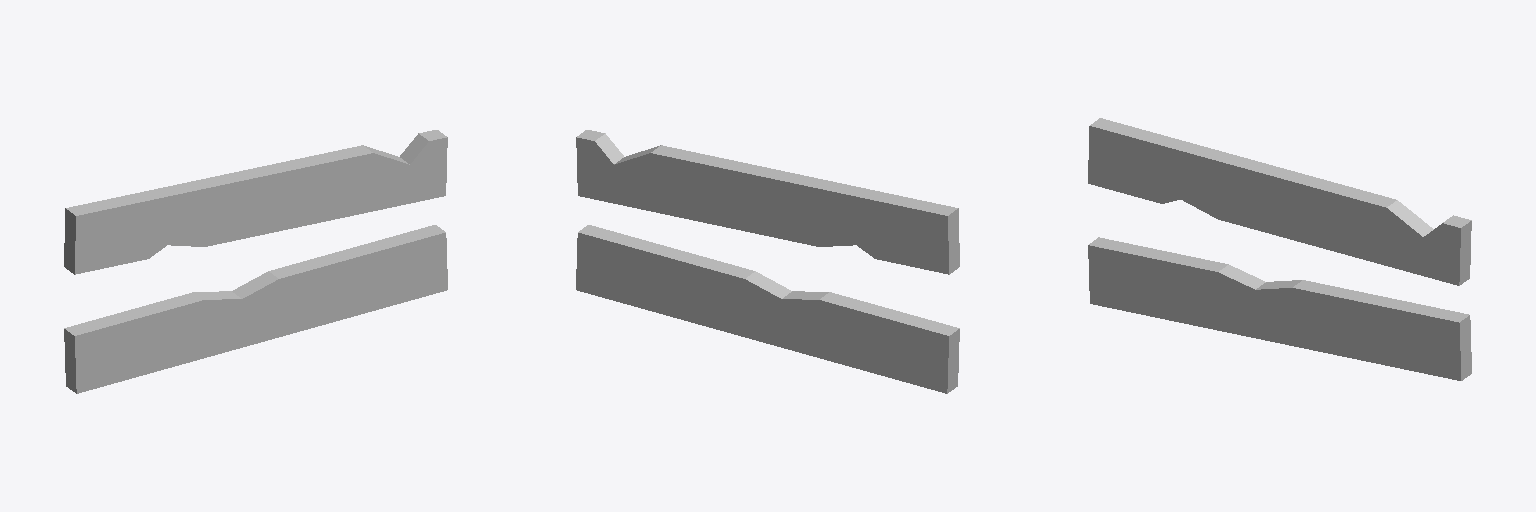
Rendered from Prop_Fence_Boards_3.obj.
3 renders of one model, left to right at view 1: azimuth 30°, elevation 25°; view 2: azimuth 150°, elevation 25°; view 3: azimuth 330°, elevation 25°, orthographic.
Visible parts, largest first — view 1: object1, object2; view 2: object1, object2; view 3: object1, object2.
Boxes of the visible parts, x1,y1,x2,y2 form: object1: [64, 225, 447, 393]; object2: [64, 130, 447, 274]; object1: [576, 225, 959, 393]; object2: [576, 130, 959, 274]; object1: [1088, 237, 1471, 380]; object2: [1088, 118, 1471, 285].
Bounding box in the file's own units: 1.01 × 0.4578 × 0.05.